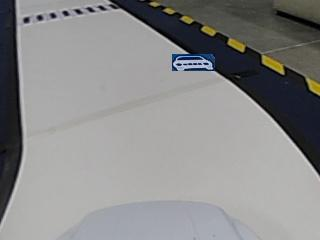crosswalk: (23, 2, 116, 24)
